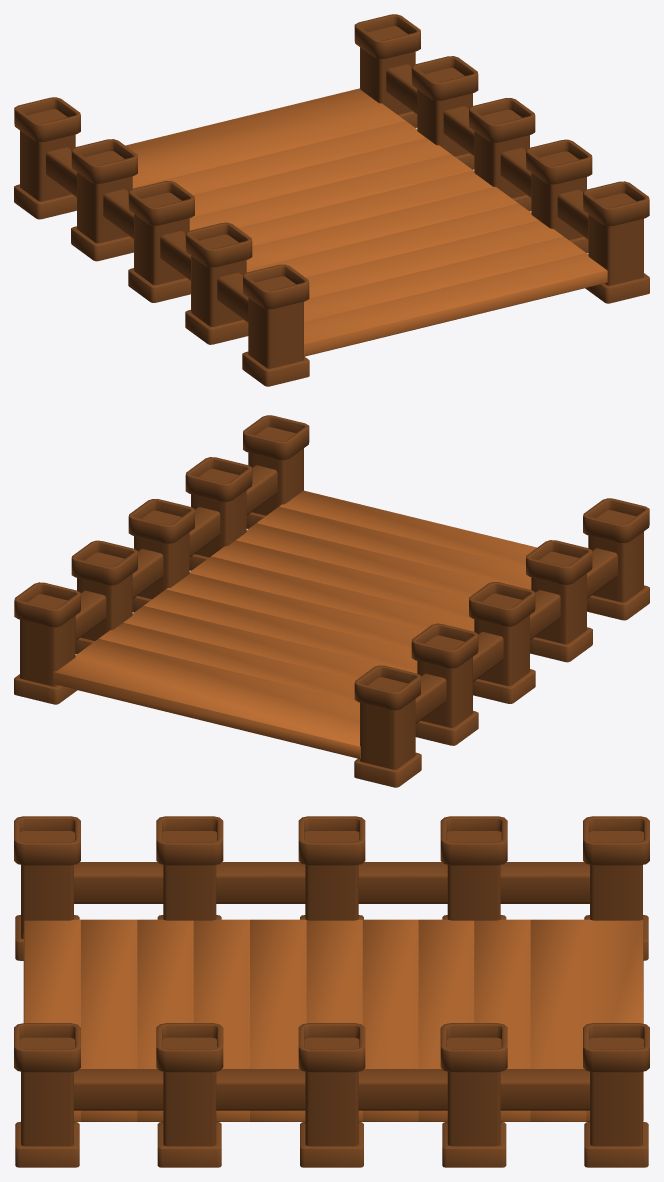
Rendered from bridge.fbx.
3 views of the same model, one above another, from view 1: azimuth 30°, elevation 25°; view 2: azimuth 150°, elevation 25°; view 3: azimuth 270°, elevation 25° (orthographic). The views are drawn at different scales.
Parts seen in each view (by area): view 1: Bridge; view 2: Bridge; view 3: Bridge.
Boxes of the visible parts, x1,y1,x2,y2 form: Bridge: [14, 14, 649, 386]; Bridge: [14, 415, 649, 787]; Bridge: [14, 816, 649, 1167].
Size of the model in its own units: 6.36 by 1.48 by 7.27.
